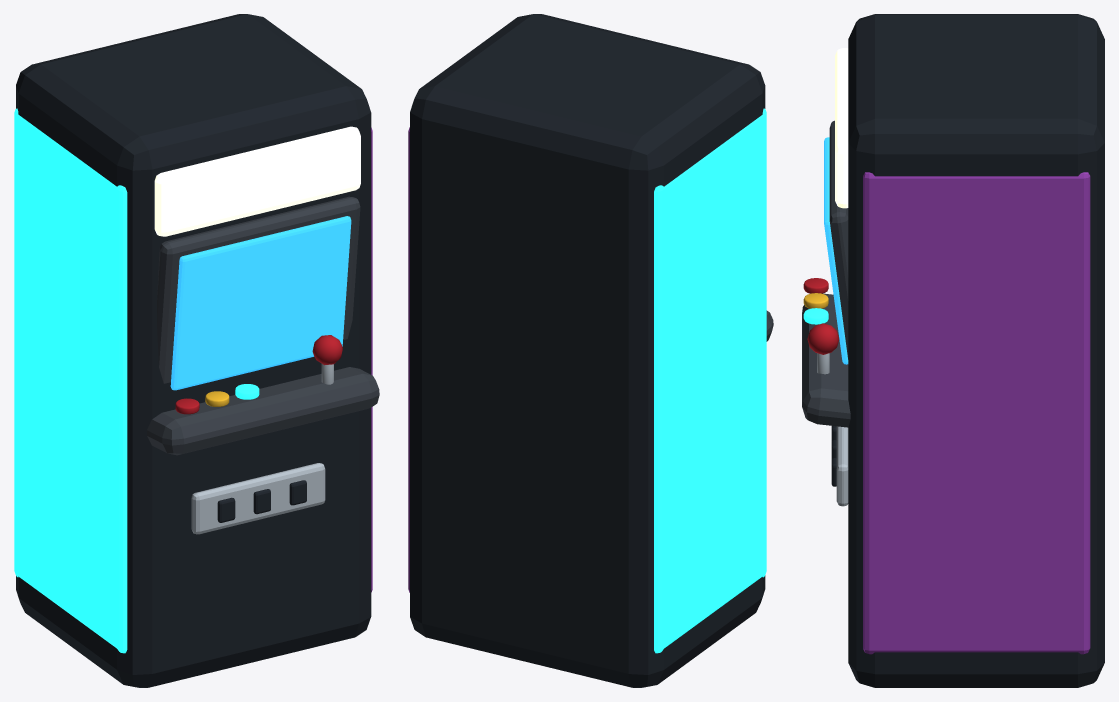
The model's file is arcade-cabinet.glb.
The picture shows the model from 3 angles, left to right: view 1: azimuth 30°, elevation 25°; view 2: azimuth 150°, elevation 25°; view 3: azimuth 270°, elevation 25°; orthographic projection. The views are drawn at different scales.
Parts seen in each view (by area): view 1: arcade · Soft black, arcade · Status cyan, arcade · Active display, arcade · Graphite metal, arcade · Warm diffuser, arcade · Brushed aluminum, arcade · Emergency red, arcade · Drink label purple; view 2: arcade · Soft black, arcade · Status cyan, arcade · Drink label purple; view 3: arcade · Drink label purple, arcade · Soft black, arcade · Graphite metal, arcade · Warm diffuser, arcade · Active display, arcade · Brushed aluminum, arcade · Emergency red.
Part boxes in pixels (box(x1,y1,x2,y2)): arcade · Soft black: box(16, 14, 371, 687); arcade · Status cyan: box(14, 108, 259, 653); arcade · Active display: box(170, 216, 351, 390); arcade · Graphite metal: box(147, 196, 379, 455); arcade · Warm diffuser: box(154, 126, 360, 236); arcade · Brushed aluminum: box(191, 364, 333, 534); arcade · Emergency red: box(175, 335, 342, 414); arcade · Drink label purple: box(371, 127, 372, 592); arcade · Soft black: box(410, 14, 765, 687); arcade · Status cyan: box(654, 108, 766, 653); arcade · Drink label purple: box(408, 127, 409, 592); arcade · Drink label purple: box(863, 172, 1090, 654); arcade · Soft black: box(831, 14, 1104, 687); arcade · Graphite metal: box(802, 120, 850, 427); arcade · Warm diffuser: box(835, 48, 848, 208); arcade · Active display: box(824, 137, 848, 364); arcade · Brushed aluminum: box(817, 353, 848, 506); arcade · Emergency red: box(803, 278, 839, 354).
Size of the model in its own units: 0.845 by 1.76 by 0.8498.
